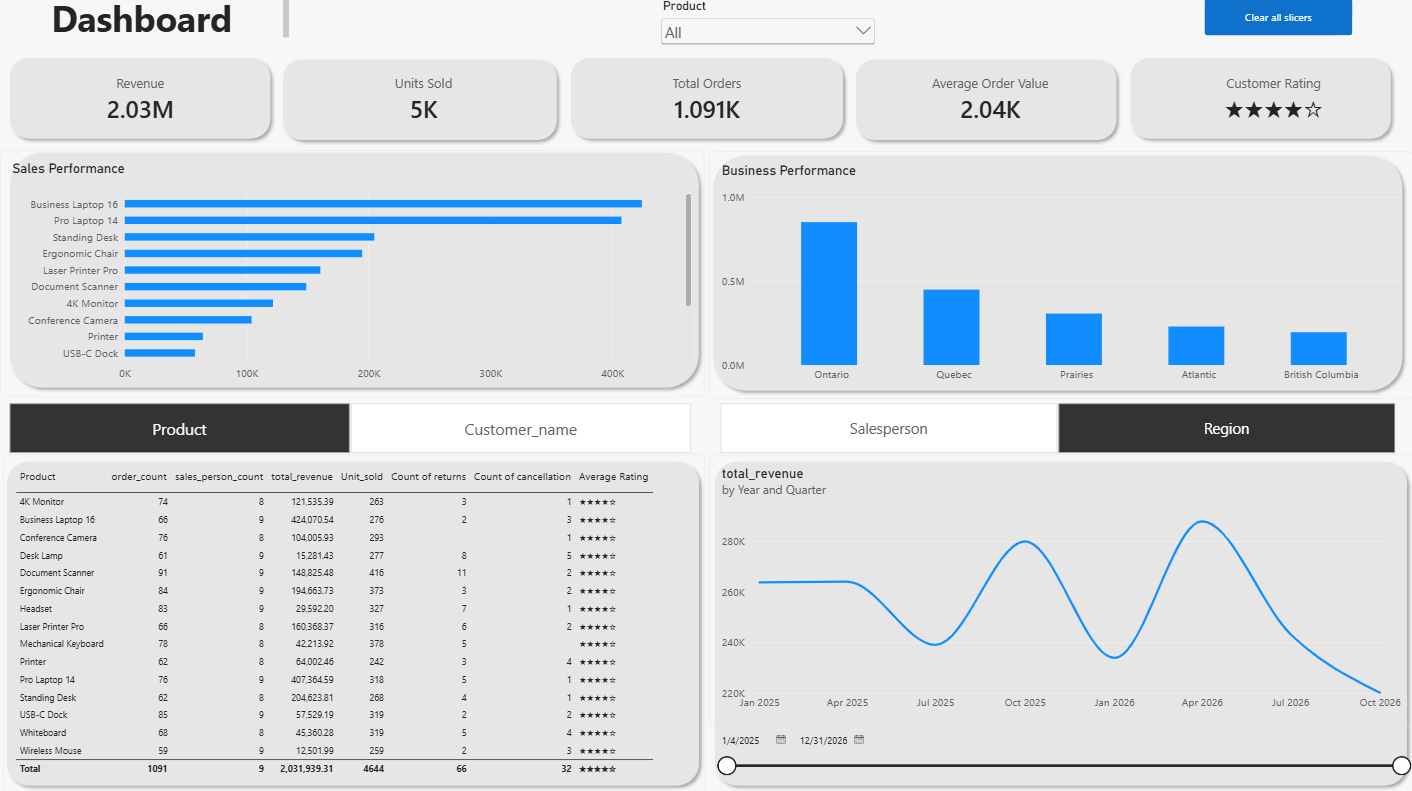

The dashboard page shown, as its layout file describes it:
{"tool":"powerbi","page":{"name":"Dashboard","canvas":[1920,1080],"ordinal":0},"visuals":[{"type":"shape","box":[9.1,622.3,953.9,456.5],"z":0},{"type":"shape","box":[11.4,204.4,949.4,336.2],"z":1000},{"type":"shape","box":[1526.3,77.2,370.2,127.2],"z":2000},{"type":"shape","box":[11.4,77.2,370.2,127.2],"z":3000},{"type":"shape","box":[770,77.2,386.1,127.2],"z":4000},{"type":"shape","box":[963,209,949.4,336.2],"z":5000},{"type":"shape","box":[1156.1,79.5,370.2,127.2],"z":6000},{"type":"shape","box":[965.3,622.3,953.9,456.5],"z":7000},{"type":"shape","box":[381.6,79.5,388.4,127.2],"z":8000},{"type":"cardVisual","fields":{"Data":["Measure.total_revenue","Measure.Unit_sold","Measure.order_count","Measure.average order value","product.Average of Customer_Rating star rating"]},"box":[9.5,78.2,1911.3,127.9],"z":9000},{"type":"barChart","title":"Sales Performance","fields":{"Category":["product.Product"],"Y":["Measure.total_revenue"]},"box":[9.1,211.2,951.7,333.9],"z":10000},{"type":"columnChart","title":"Business Performance","fields":{"Category":["Region.Region"],"Y":["Measure.total_revenue"]},"box":[967.6,213.5,952,334],"z":11000},{"type":"slicer","fields":{"Values":["revenue generation.revenue generation"]},"box":[0,551.9,960.8,70.4],"z":12000},{"type":"tableEx","fields":{"Values":["order_staging.Product","Measure.order_count","Measure.sales_person_count","Measure.total_revenue","Measure.Unit_sold","Measure.Count of returns","Measure.Count of cancellation","product.Average of Customer_Rating star rating"]},"box":[11.4,622.3,949.4,456.5],"z":13000},{"type":"slicer","fields":{"Values":["Sales.Sales"]},"box":[960.8,551.9,951.7,70.4],"z":14000},{"type":"lineChart","fields":{"Category":["date_dim.Order_Date.Variation.Date Hierarchy.Year","date_dim.Order_Date.Variation.Date Hierarchy.Quarter","date_dim.Order_Date.Variation.Date Hierarchy.Month","date_dim.Order_Date.Variation.Date Hierarchy.Day"],"Y":["Measure.total_revenue"]},"box":[967.6,622.3,951.7,368],"z":15000},{"type":"slicer","fields":{"Values":["date_dim.Order_Date"]},"box":[967.6,990.3,951.7,88.6],"z":16000},{"type":"textbox","box":[9.1,0,390.7,61.3],"z":17000},{"type":"actionButton","box":[1635.3,6.8,200,50],"z":18000},{"type":"slicer","fields":{"Values":["product.Product"]},"box":[897.2,6.8,299.8,70.4],"z":19000}]}

Visuals, with their boxes in screenshot pixels (x1, y1, x2, y2), scaled from the page's 1920x1080 canvas onto the 1412x791 screenshot:
shape: box(7, 456, 708, 790)
shape: box(8, 150, 707, 396)
shape: box(1122, 57, 1395, 150)
shape: box(8, 57, 281, 150)
shape: box(566, 57, 850, 150)
shape: box(708, 153, 1406, 399)
shape: box(850, 58, 1122, 151)
shape: box(710, 456, 1411, 790)
shape: box(281, 58, 566, 151)
cardVisual - Measure.total_revenue x Measure.Unit_sold: box(7, 57, 1411, 151)
"Sales Performance" barChart: box(7, 155, 707, 399)
"Business Performance" columnChart: box(712, 156, 1411, 401)
slicer - revenue generation.revenue generation: box(0, 404, 707, 456)
tableEx - order_staging.Product x Measure.order_count: box(8, 456, 707, 790)
slicer - Sales.Sales: box(707, 404, 1406, 456)
lineChart - date_dim.Order_Date.Variation.Date Hierarchy.Year x date_dim.Order_Date.Variation.Date Hierarchy.Quarter: box(712, 456, 1411, 725)
slicer - date_dim.Order_Date: box(712, 725, 1411, 790)
textbox: box(7, 0, 294, 45)
actionButton: box(1203, 5, 1350, 42)
slicer - product.Product: box(660, 5, 880, 57)
